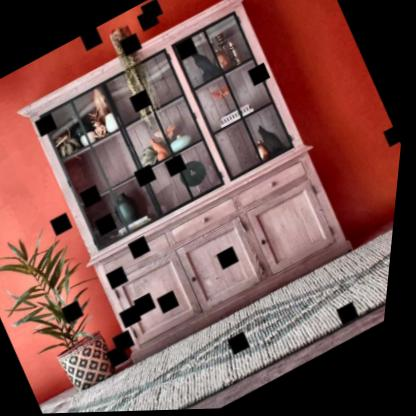Cupboard: (7, 0, 378, 365)
